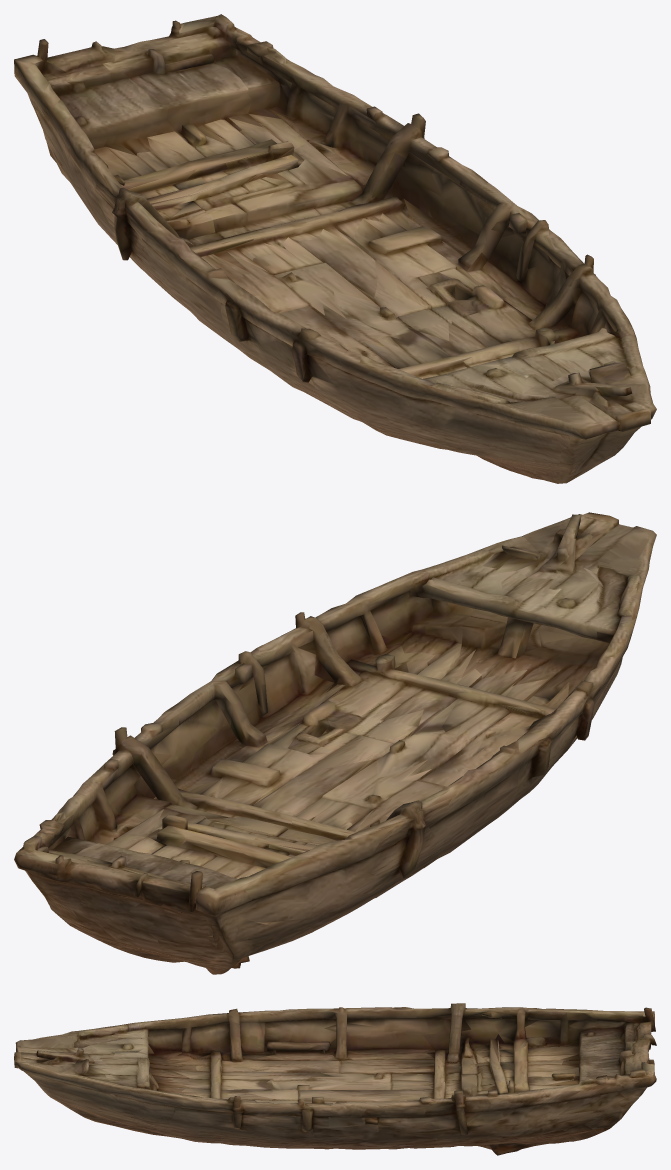
Rendered from river-ferry.glb.
3 renders of one model, top to bottom at view 1: azimuth 30°, elevation 25°; view 2: azimuth 150°, elevation 25°; view 3: azimuth 270°, elevation 25°, orthographic. The views are drawn at different scales.
Parts seen in each view (by area): view 1: tripo_node_f3565f2c-dd61-49c9-adfa-fb0372a2ee3f; view 2: tripo_node_f3565f2c-dd61-49c9-adfa-fb0372a2ee3f; view 3: tripo_node_f3565f2c-dd61-49c9-adfa-fb0372a2ee3f.
Part boxes in pixels (x1=…): tripo_node_f3565f2c-dd61-49c9-adfa-fb0372a2ee3f: x1=14, y1=14, x2=656, y2=483; tripo_node_f3565f2c-dd61-49c9-adfa-fb0372a2ee3f: x1=14, y1=512, x2=656, y2=974; tripo_node_f3565f2c-dd61-49c9-adfa-fb0372a2ee3f: x1=14, y1=1003, x2=656, y2=1155.
Size of the model in its own units: 2.87 by 1.6 by 7.9.
1 material, 1 textured.
